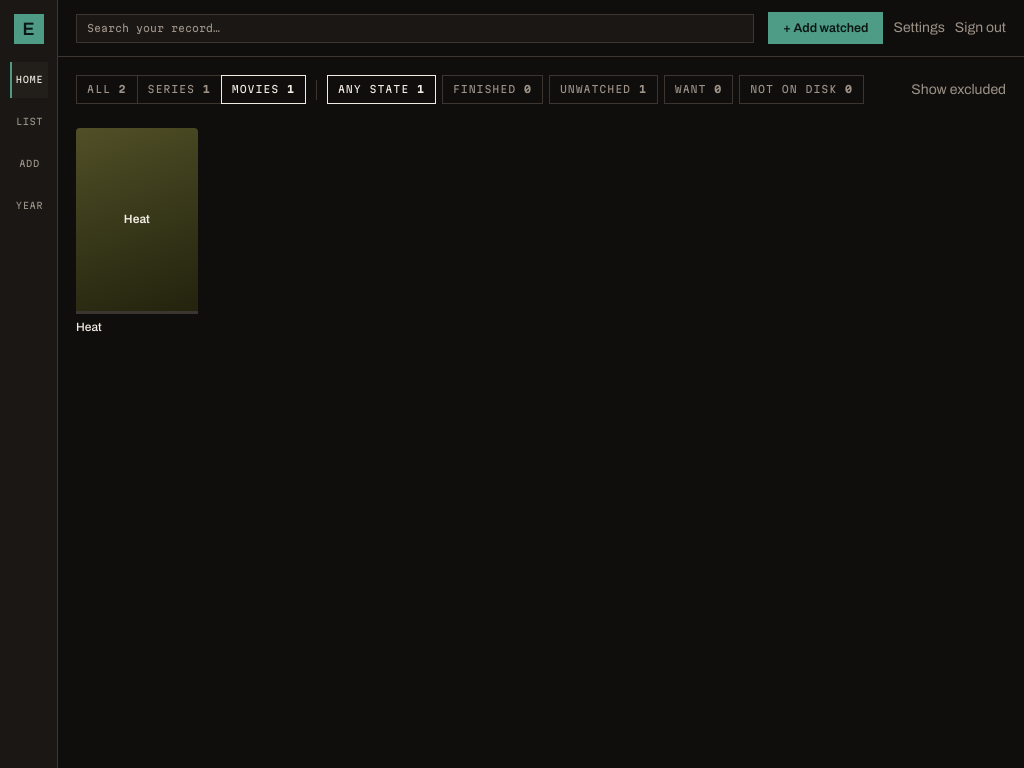
Test case: the wall › keeps the kind when the search box is used, and when it empties one
expect the heading "Heat" is shown: met, box [76,320,102,334]
Type "bleach" into the search field. click: coordinates (415, 28)
box: [76,14,754,42]
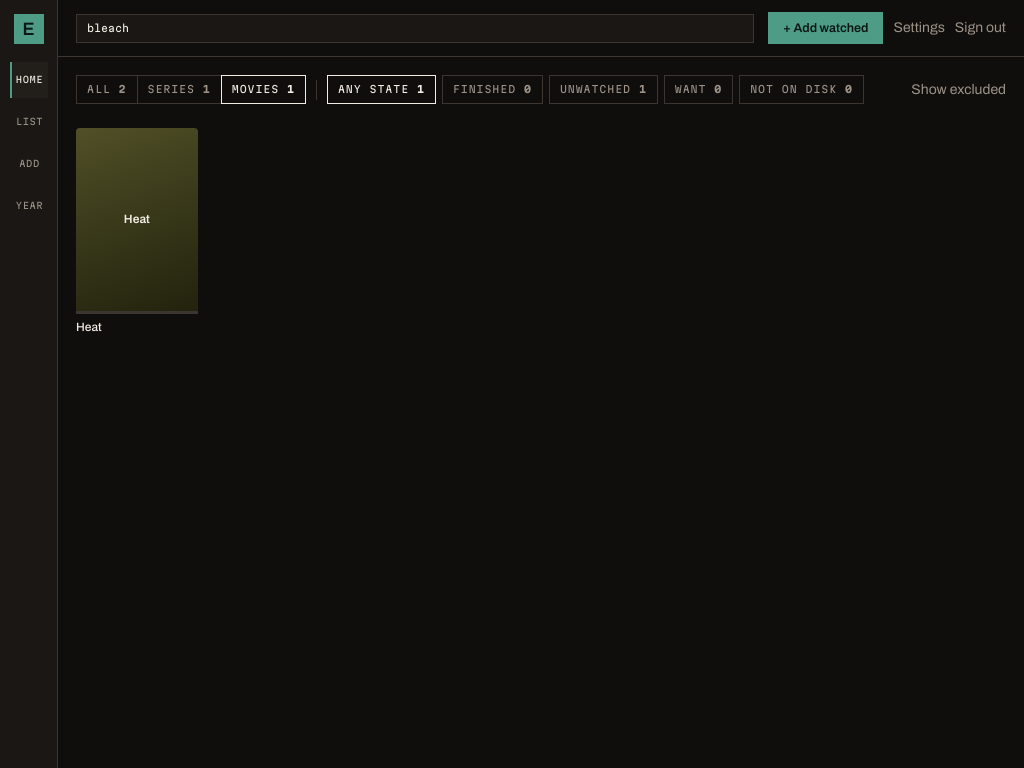
Submit the form from the search field, box [76,14,754,42]
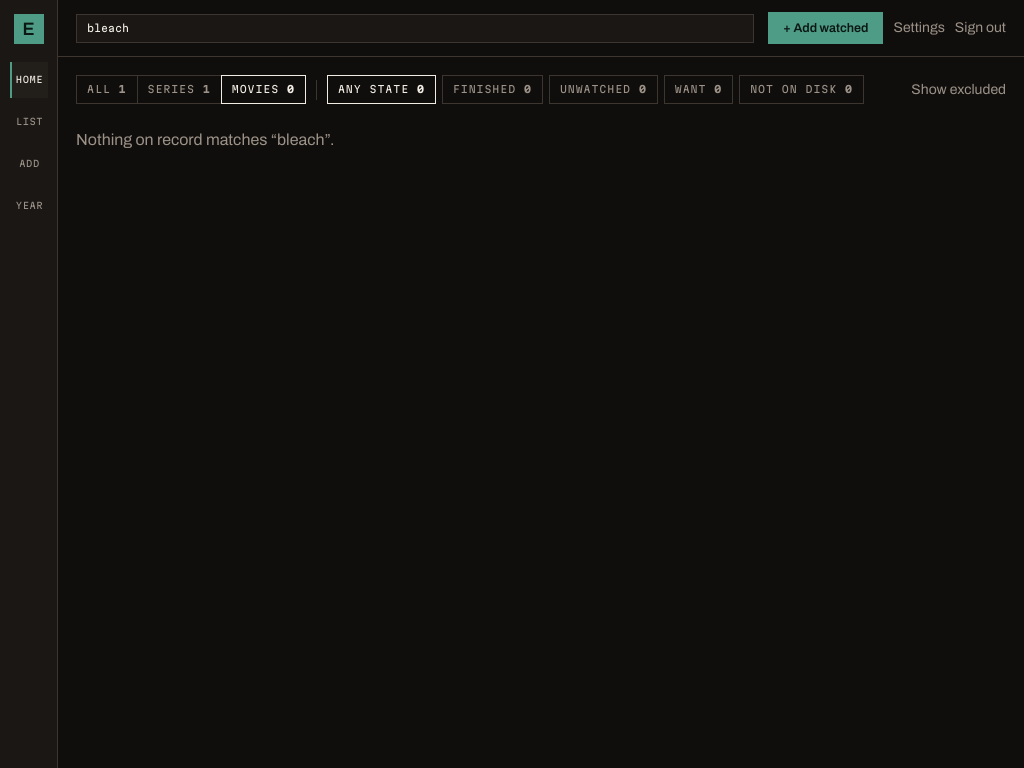
expect the text "Nothing on record matches “bleach”." is shown: met, box [76,131,334,148]
